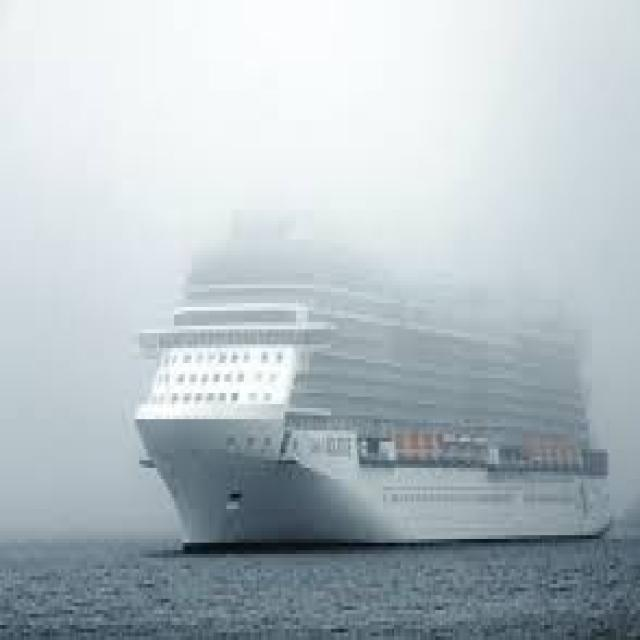passenger ship: (123, 186, 619, 539)
